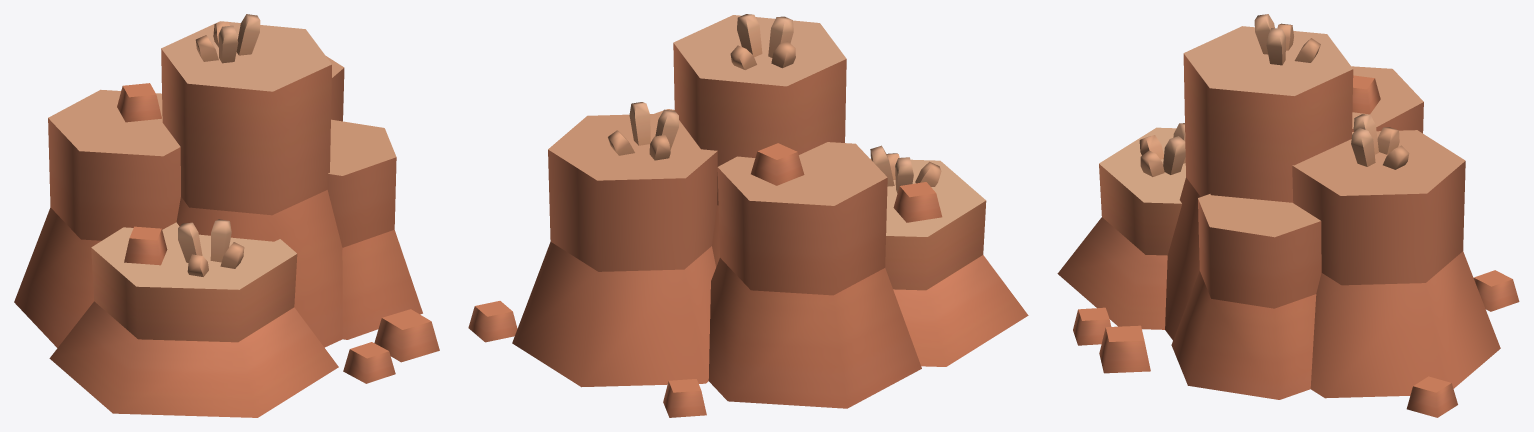
File: rocks-sand-c.glb
3 renders of one model, left to right at view 1: azimuth 30°, elevation 25°; view 2: azimuth 150°, elevation 25°; view 3: azimuth 270°, elevation 25°, orthographic. The views are drawn at different scales.
Parts seen in each view (by area): view 1: rocks-sand-c; view 2: rocks-sand-c; view 3: rocks-sand-c.
Part boxes in pixels (x1,y1,x2,y2): rocks-sand-c: [14, 14, 439, 417]; rocks-sand-c: [468, 14, 1028, 417]; rocks-sand-c: [1057, 14, 1519, 417].
Bounding box in the file's own units: 3.71 × 2.61 × 3.72.
1 material, 1 textured.
